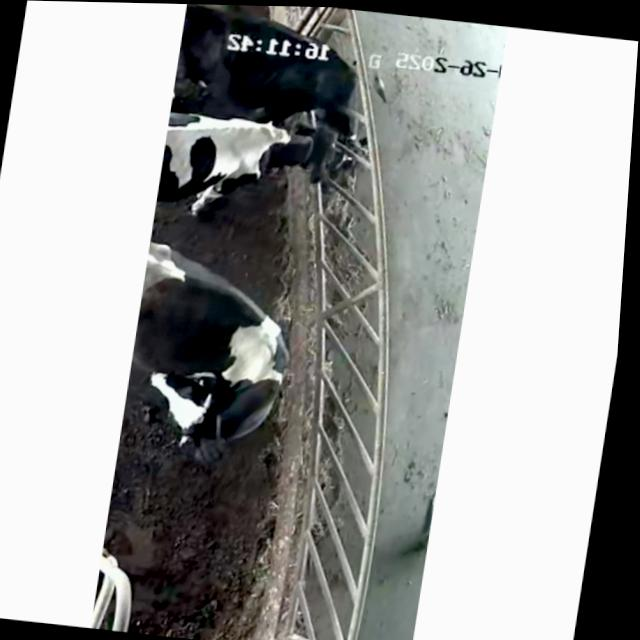eat: (204, 12, 401, 136)
